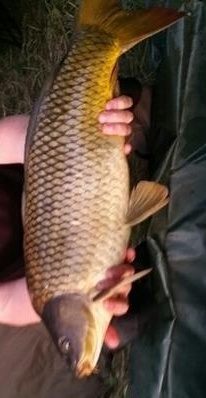Cyprinus carpio: (20, 1, 186, 378)
